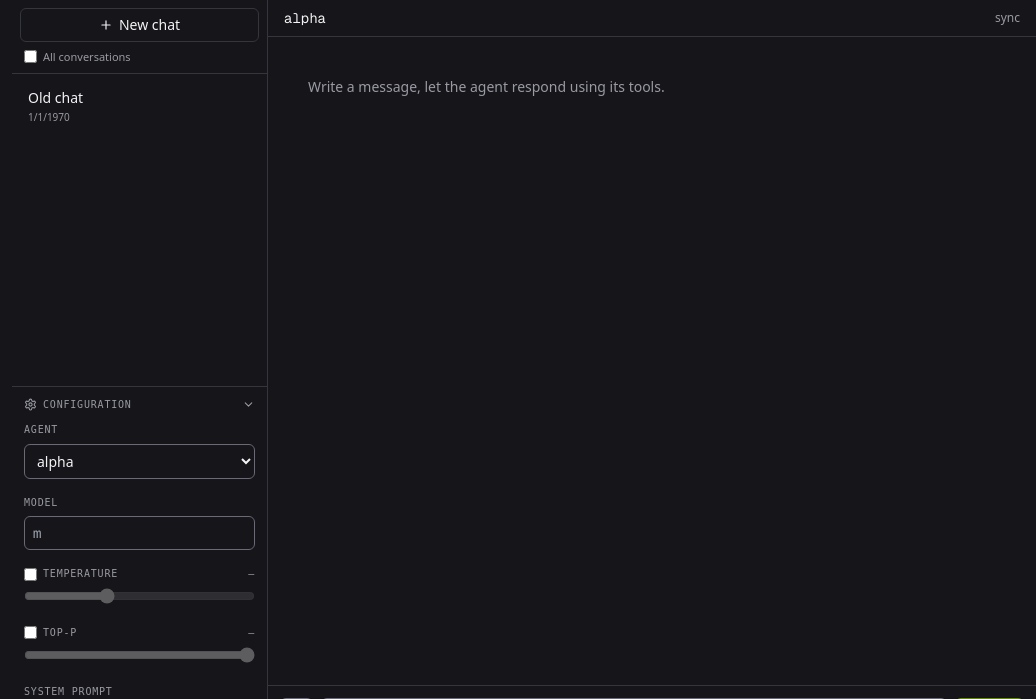
studio-ui components › Playground: switching agents clears the loaded thread (no leftover conversation from the previous agent)
Pick the past conversation → its history is restored into the chat pane.
Click the text "Old chat" at (56, 98), box [28,88,83,107]
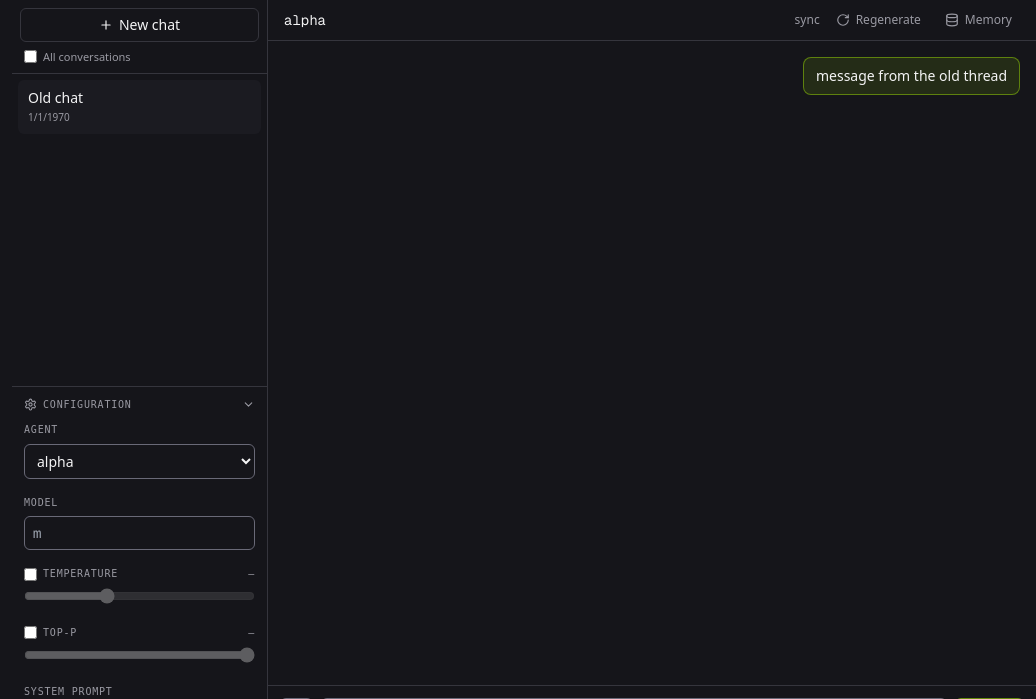
expect the text "message from the old thread" is shown: met, box [803,57,1020,95]
Switch agents → the previous agent's conversation must NOT linger.
Select "beta" in the dropdown named "Agent" at (140, 461), box [24,444,255,479]
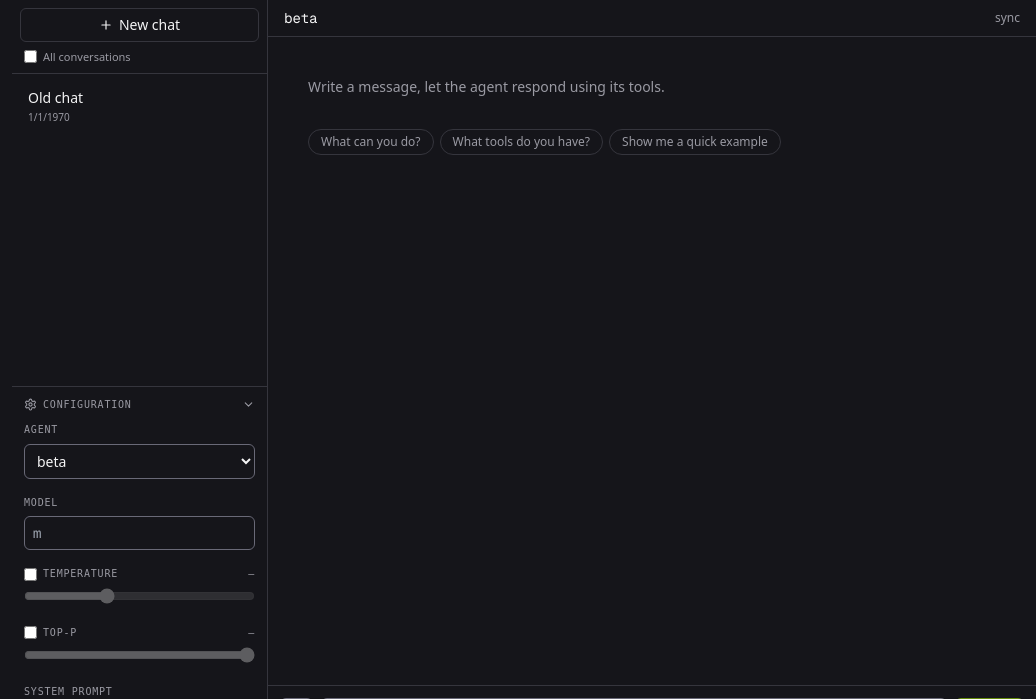
expect the text "message from the old thread" is gone: met
